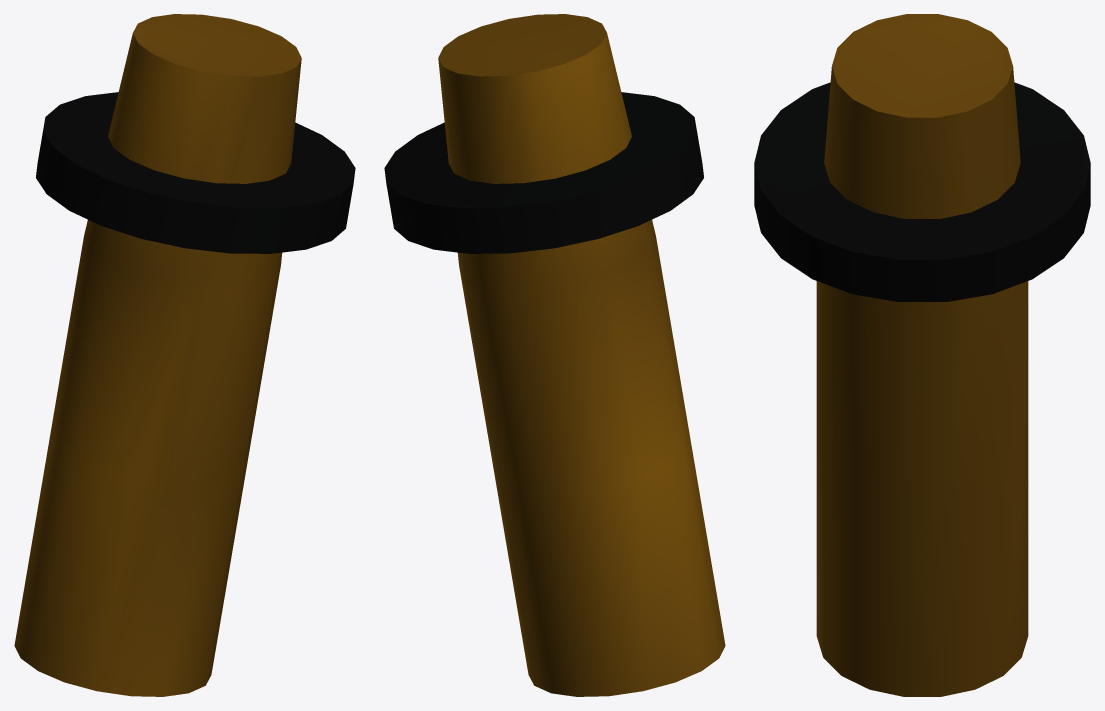
Rendered from bike_stradav4_shockU.glb.
The picture shows the model from 3 angles, left to right: view 1: azimuth 30°, elevation 25°; view 2: azimuth 150°, elevation 25°; view 3: azimuth 270°, elevation 25°; orthographic projection. The views are drawn at different scales.
Visible parts, largest first — view 1: sbs_shk_body, sbs_shk_collarT; view 2: sbs_shk_body, sbs_shk_collarT; view 3: sbs_shk_body, sbs_shk_collarT.
Boxes of the visible parts, <box> form: sbs_shk_body: <box>14,14,301,696</box>; sbs_shk_collarT: <box>36,92,355,253</box>; sbs_shk_body: <box>438,14,725,696</box>; sbs_shk_collarT: <box>384,92,703,253</box>; sbs_shk_body: <box>816,14,1028,696</box>; sbs_shk_collarT: <box>754,82,1090,301</box>.
Size of the model in its own units: 0.0863 by 0.168 by 0.078.
